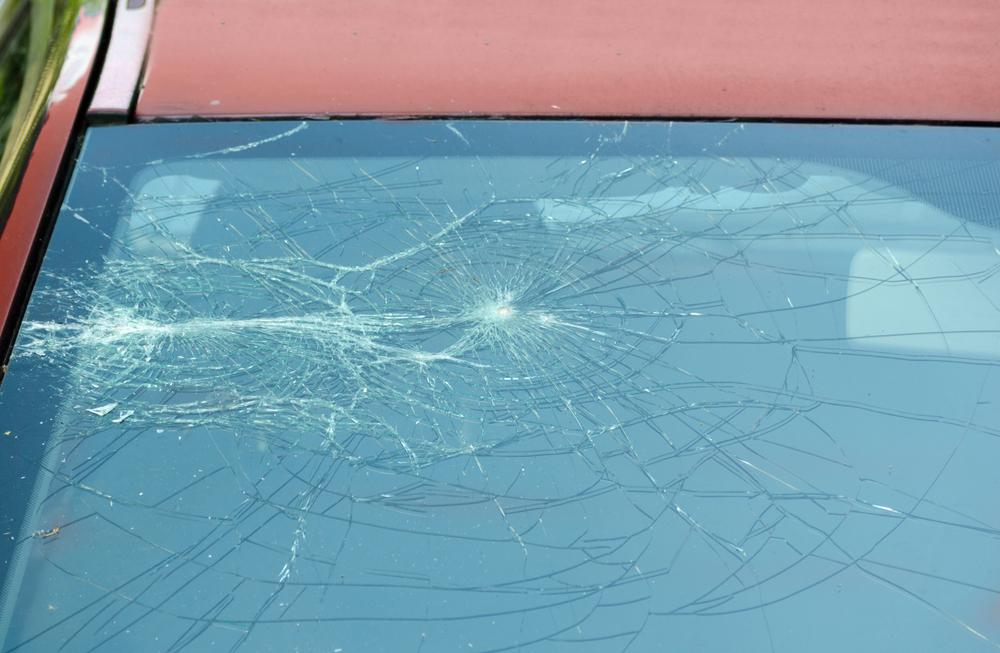glass shatter: (0, 118, 1000, 653)
